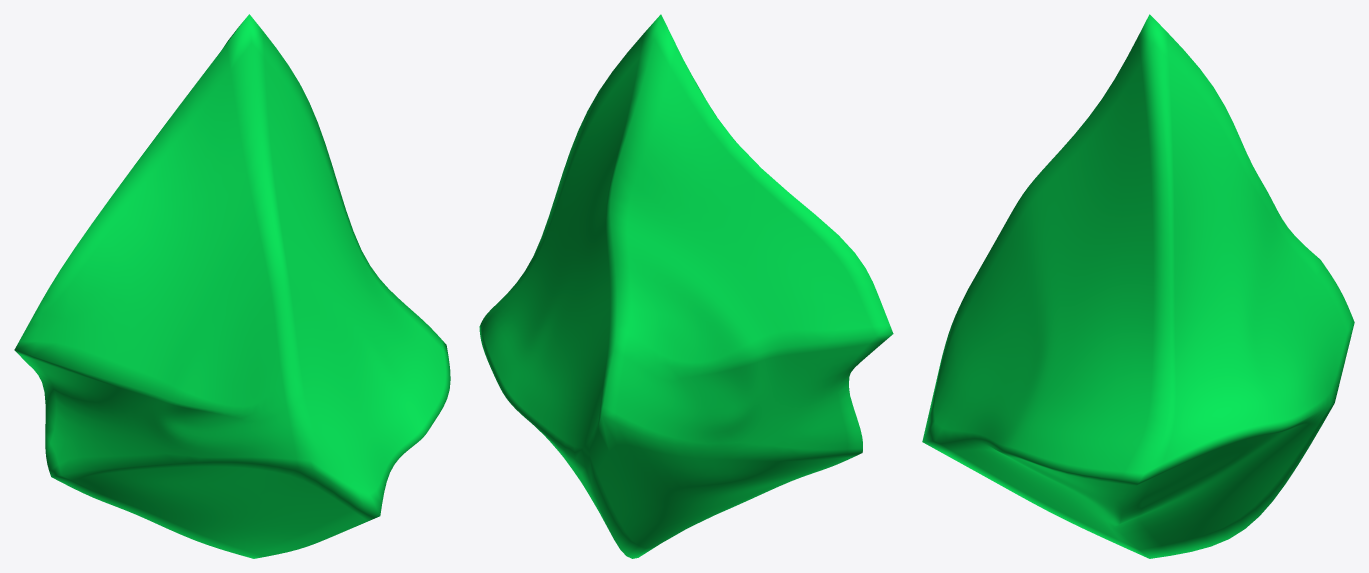
3 renders of one model, left to right at view 1: azimuth 30°, elevation 25°; view 2: azimuth 150°, elevation 25°; view 3: azimuth 270°, elevation 25°, orthographic. The views are drawn at different scales.
Visible parts, largest first — view 1: Jades_Agency_Gemstone.004; view 2: Jades_Agency_Gemstone.004; view 3: Jades_Agency_Gemstone.004.
Boxes of the visible parts, x1,y1,x2,y2 form: Jades_Agency_Gemstone.004: [14, 14, 450, 558]; Jades_Agency_Gemstone.004: [479, 14, 893, 558]; Jades_Agency_Gemstone.004: [922, 14, 1354, 558].
Bounding box in the file's own units: 0.0438 × 0.053 × 0.0383.
